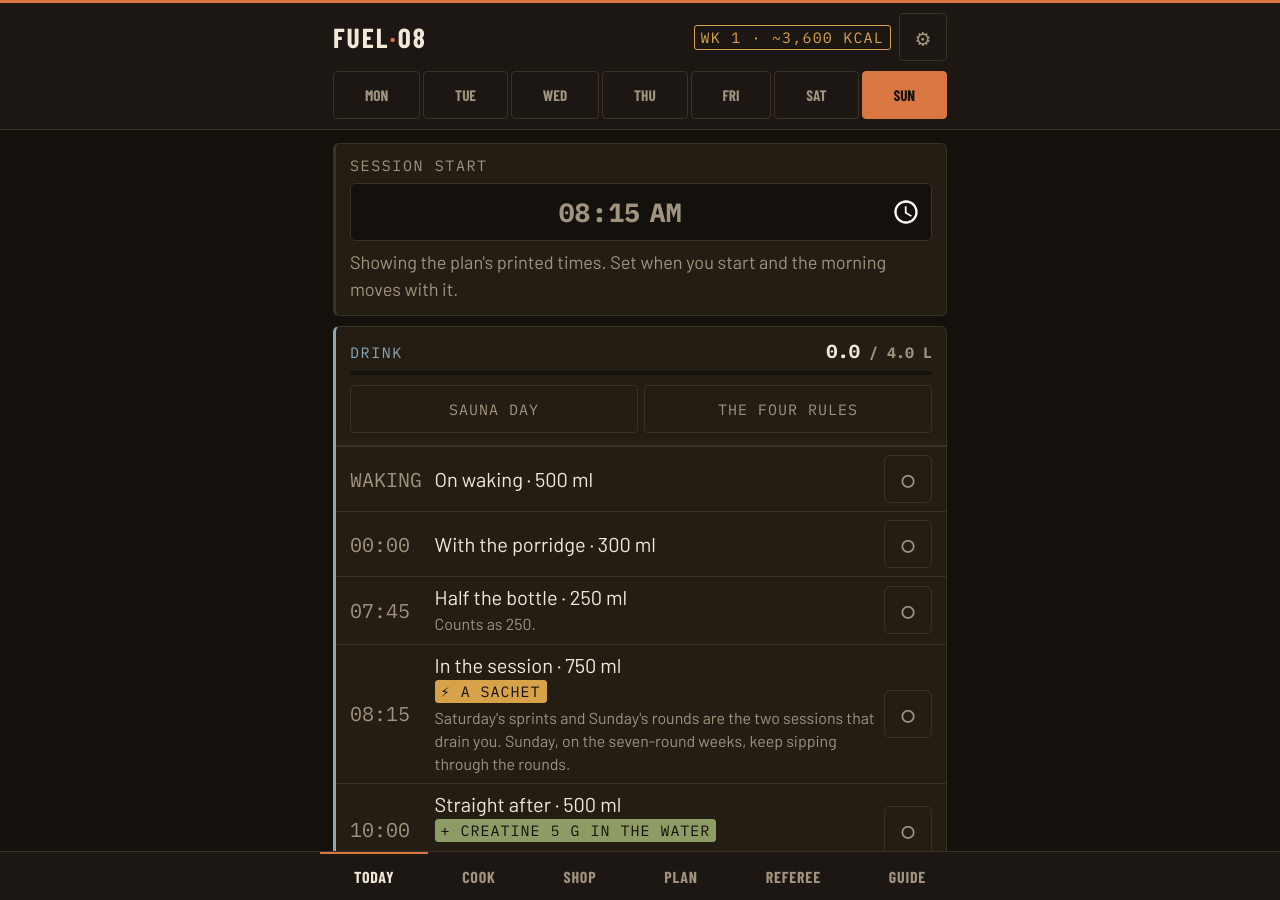
Fuel · Optimal 8 Fighter › turns a dark urine check into 500 ml and flags sachet 2
Step 1. Click the button "MON" → (377, 95), box [333,71,420,119]
(page scrolled)
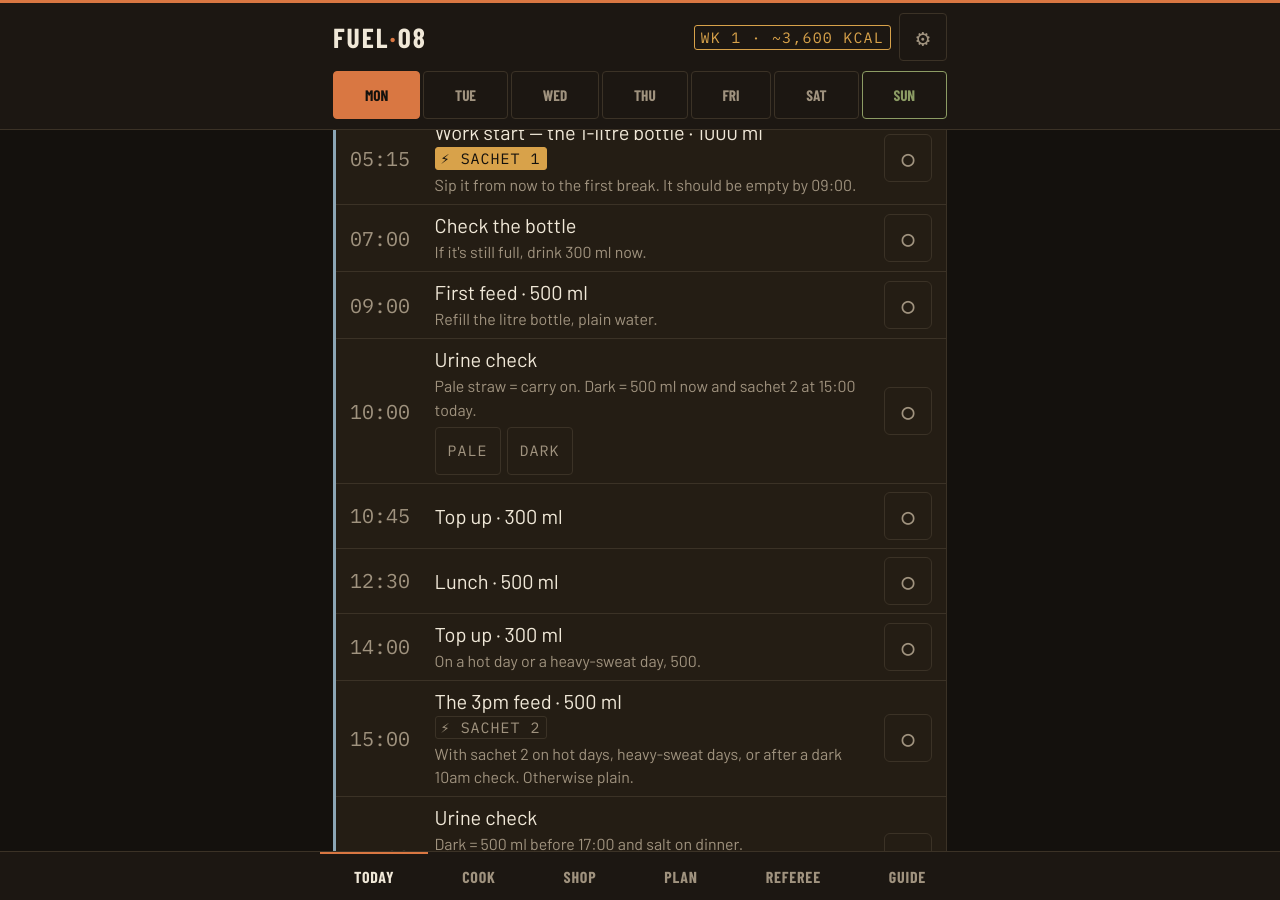
Expected: the text "Urine check · 500 ml" is not shown
Step 2. Click the button "DARK" → (540, 451), box [507,427,573,475]
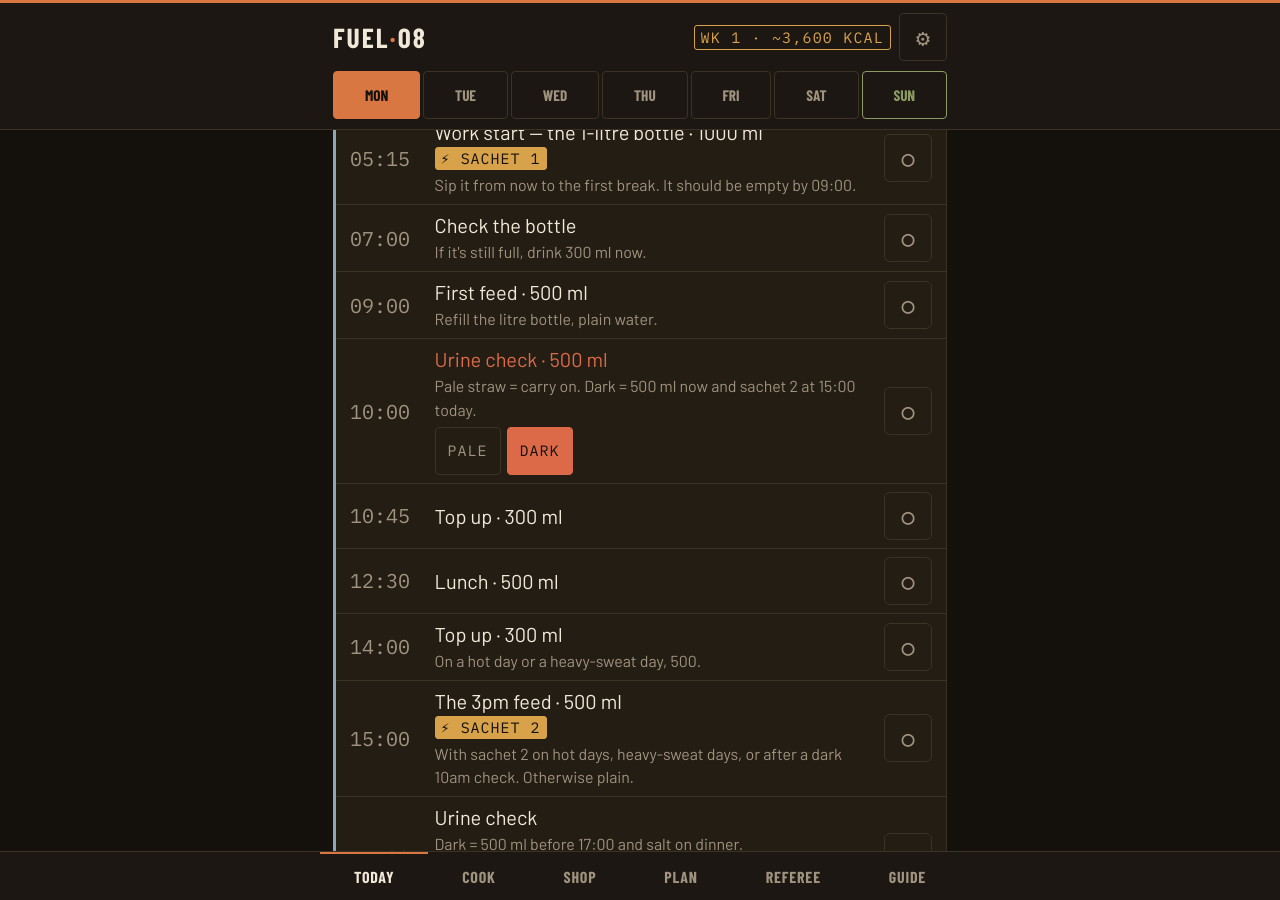
Expected: the text "Urine check · 500 ml" is shown, [435,347,608,371]
Step 3. Click the button named "Mark Urine check" → (908, 411), box [884,387,932,435]
(page scrolled)
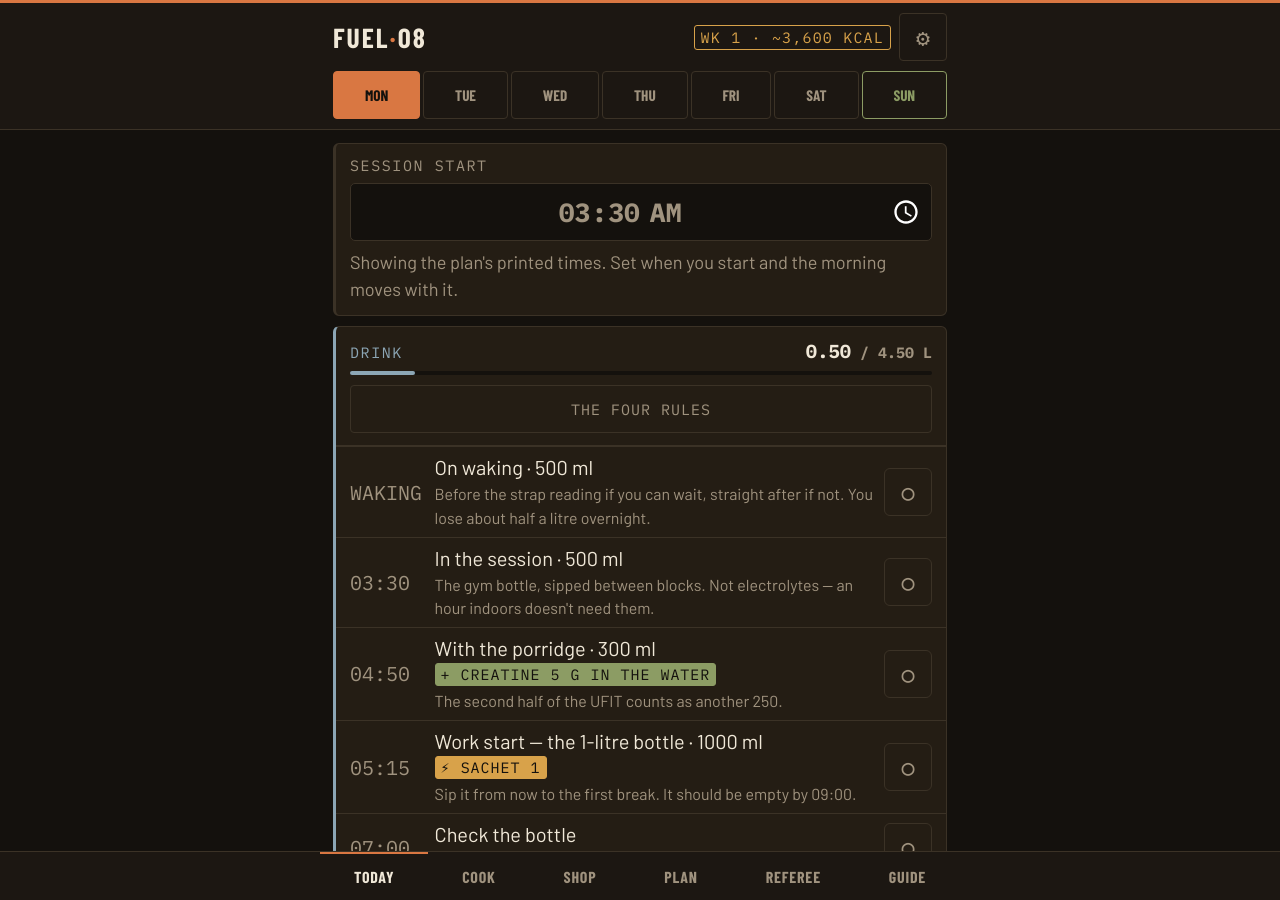
Expected: the text "0.50" is shown, [806,339,851,363]
